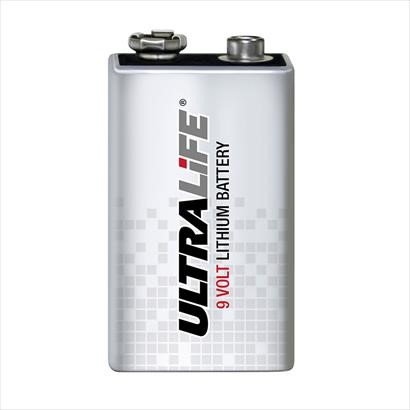9V: (103, 24, 303, 383)
